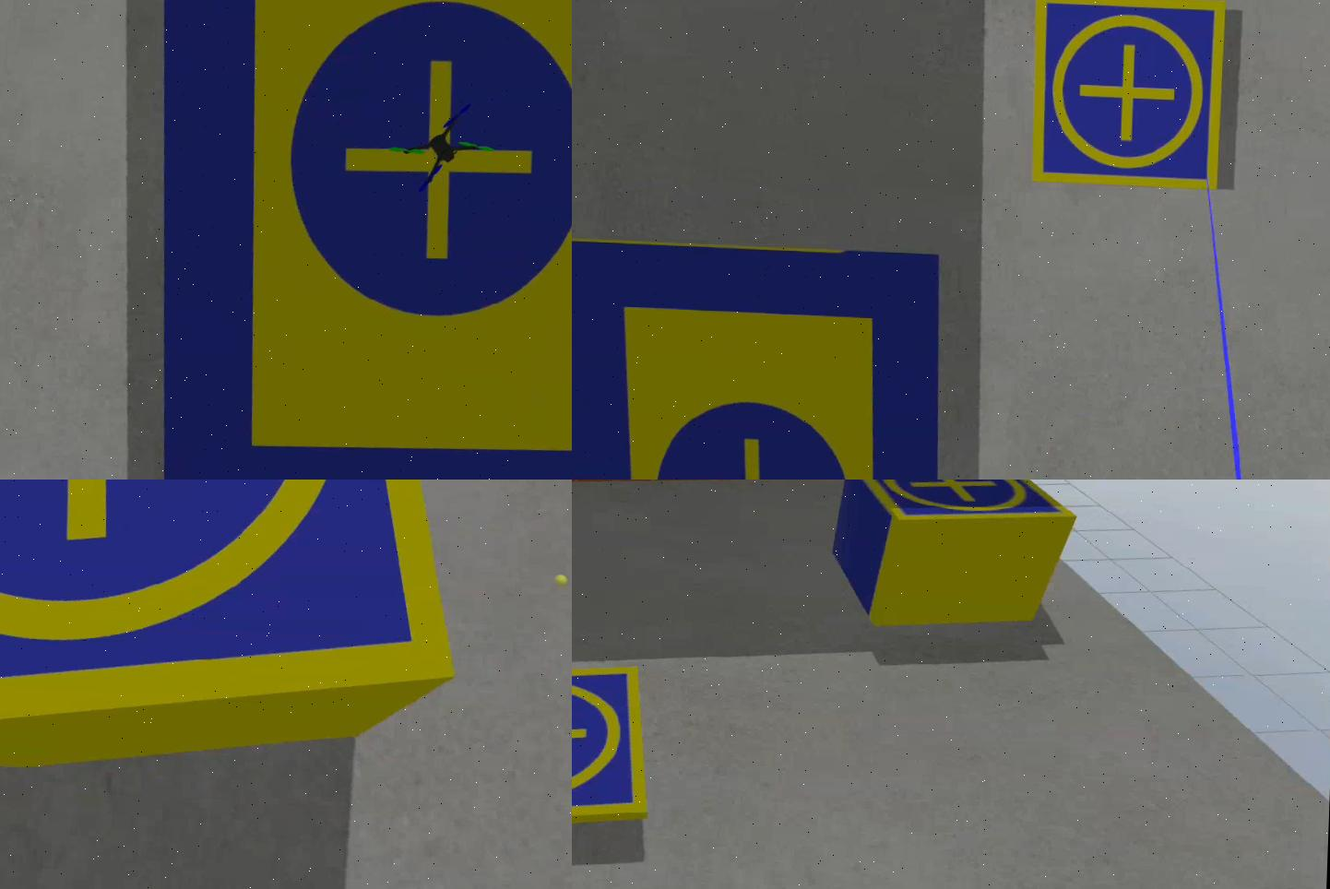large_base: (139, 1, 573, 480), (573, 237, 955, 480)
small_base: (1, 480, 486, 773), (1027, 1, 1229, 196), (573, 658, 657, 847), (845, 480, 1082, 531)
